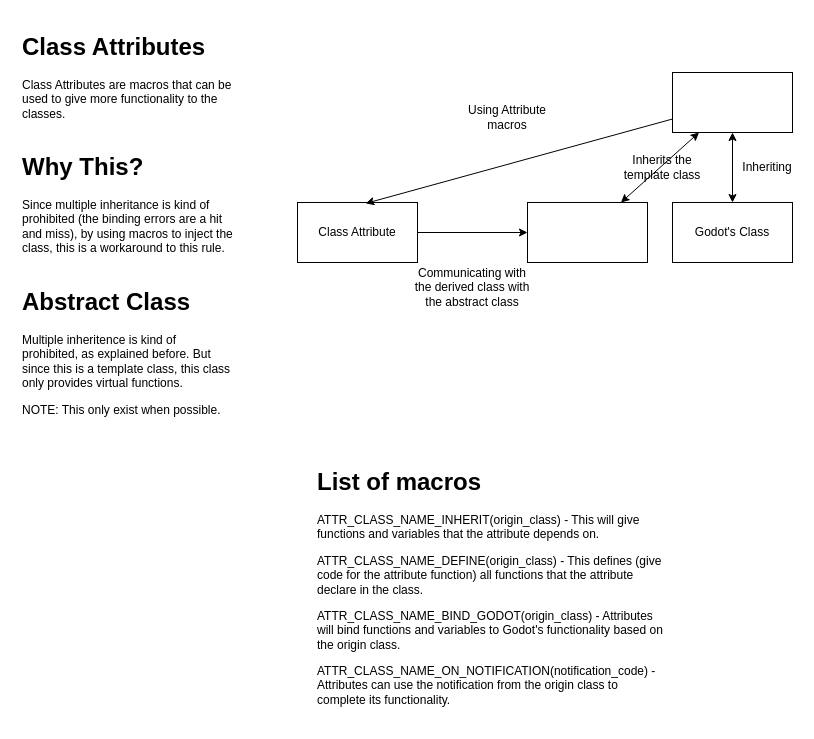
Some shapes in this 814 by 739 pixel diagram are drawn without their labels. The centre of each missing label's shape, as x and y in pixels:
Abstract Class: the point at 587,232
Game Classes: the point at 732,102
